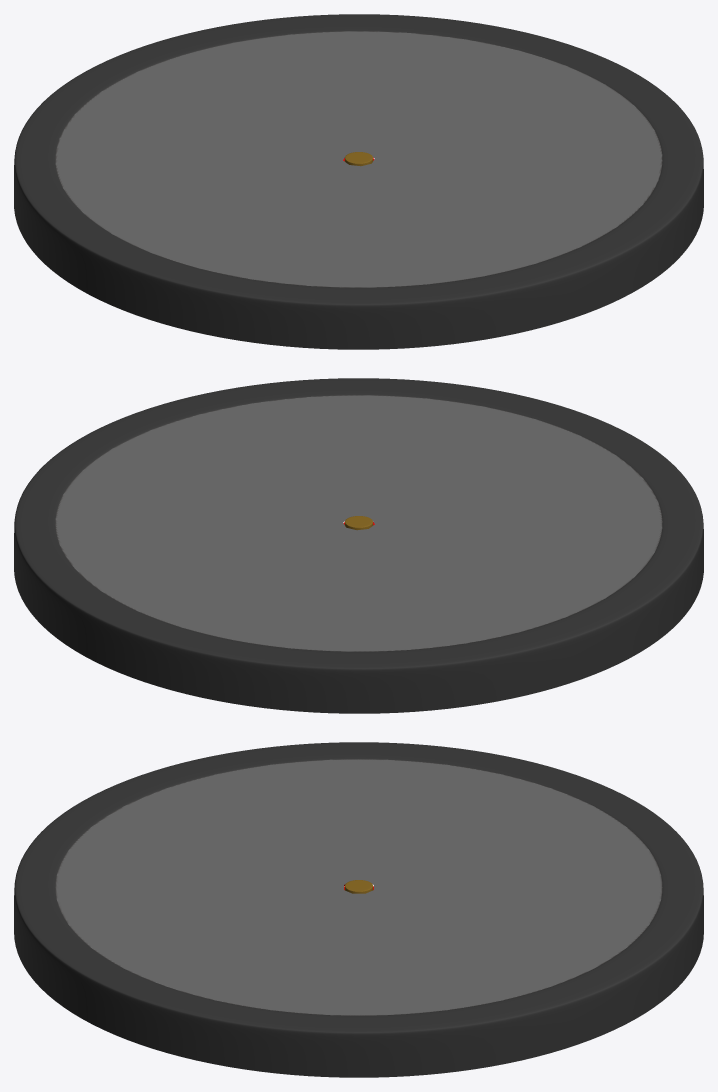
The model's file is ClockV1.fbx.
3 views of the same model, one above another, from view 1: azimuth 30°, elevation 25°; view 2: azimuth 150°, elevation 25°; view 3: azimuth 270°, elevation 25° (orthographic).
Visible parts, largest first — view 1: ClockFace; view 2: ClockFace; view 3: ClockFace.
Boxes of the visible parts, <box> form: ClockFace: <box>14,14,703,349</box>; ClockFace: <box>14,378,703,713</box>; ClockFace: <box>14,742,703,1077</box>.
Size of the model in its own units: 199 by 14.74 by 199.
7 materials, 7 textured.
